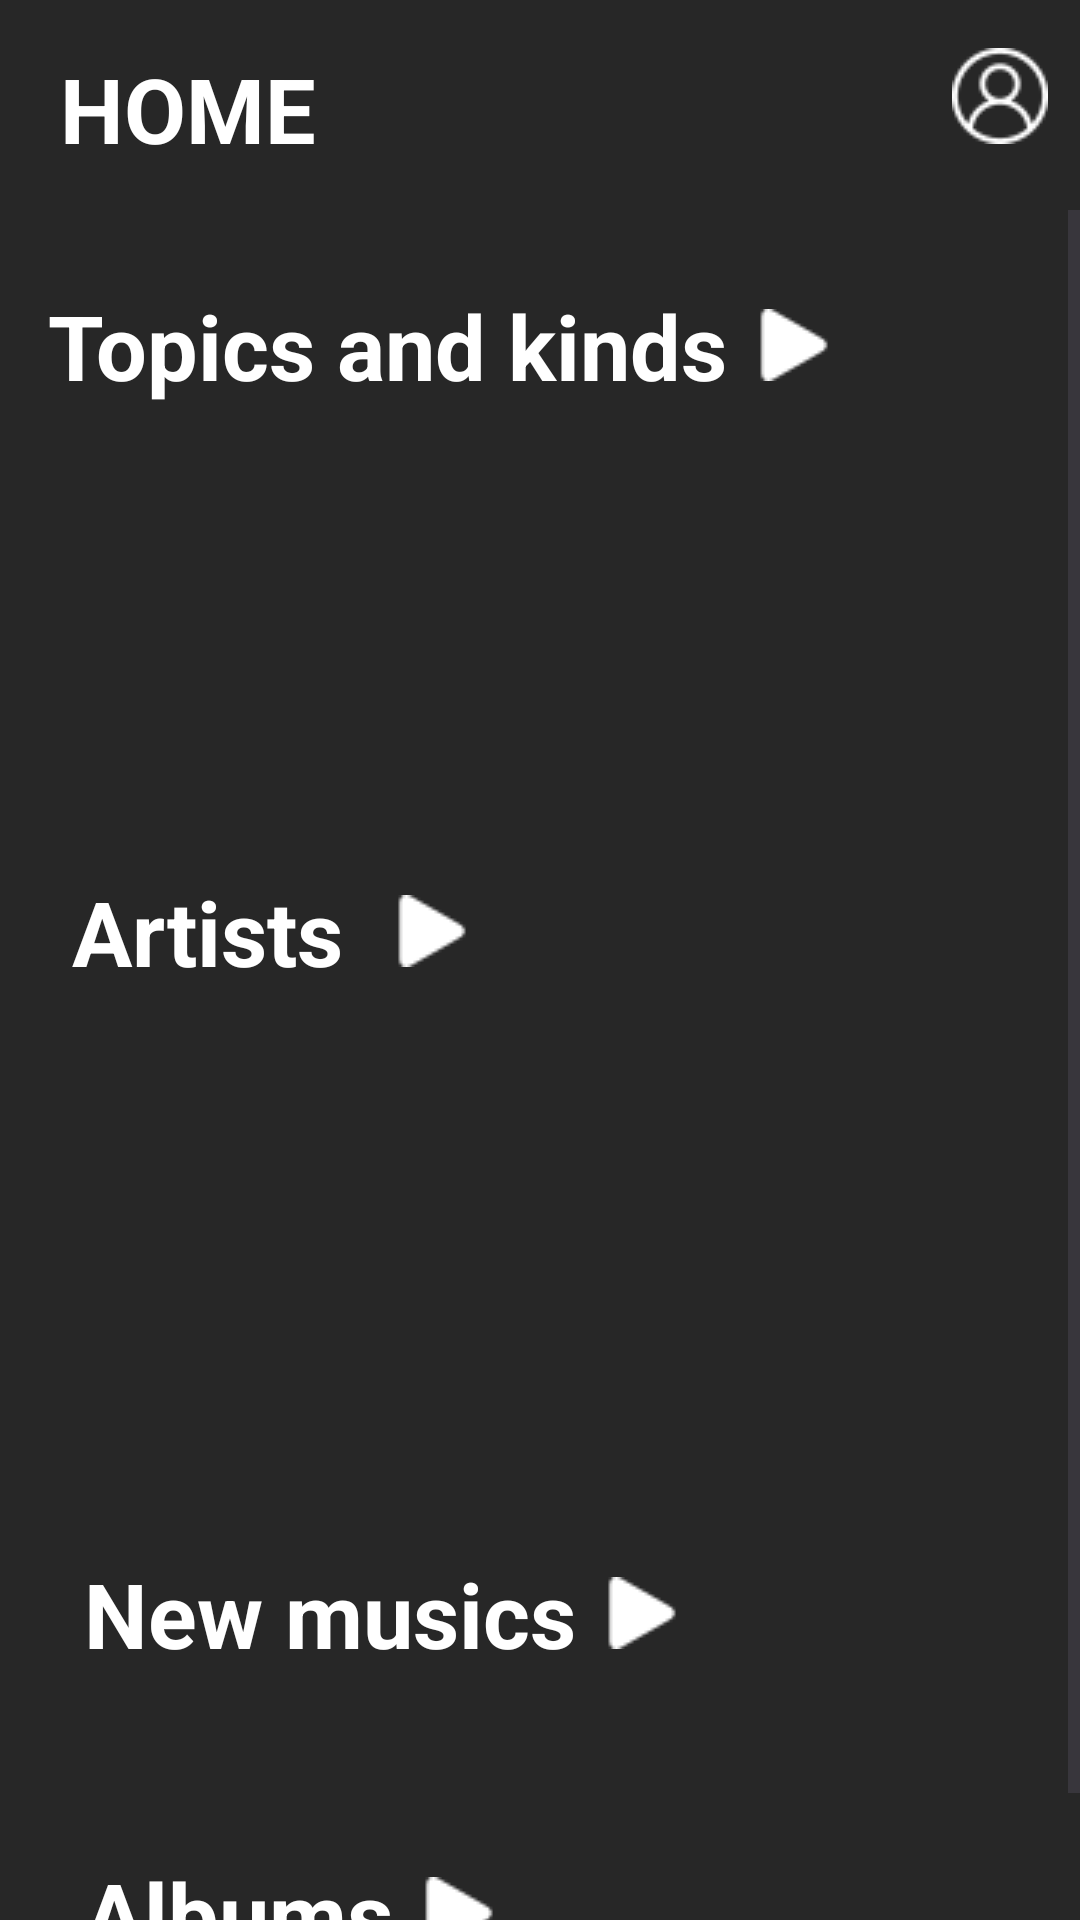

Locate icon controls on the screen. Image size 1080px×1920px, boxes as (x1, y1, x2, y2).
user: (952, 48, 1048, 144)
